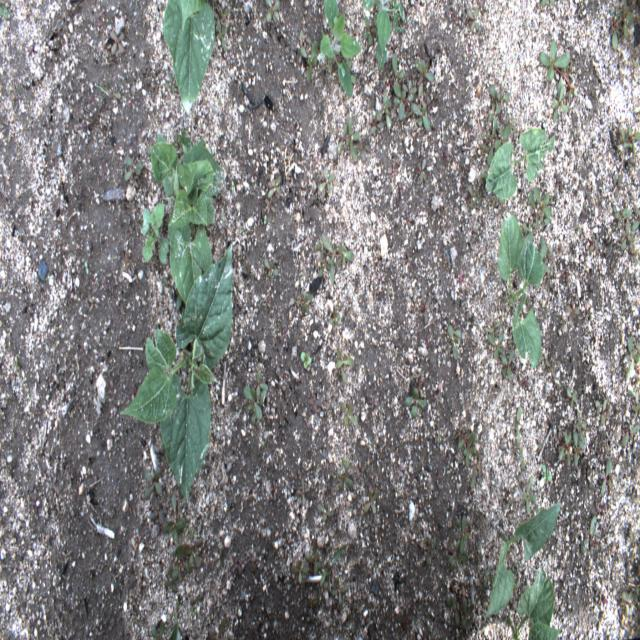crop: (120, 244, 233, 502), (149, 127, 224, 304), (486, 502, 561, 615), (497, 215, 544, 370), (161, 0, 215, 104), (485, 125, 555, 203), (509, 568, 562, 639), (168, 623, 182, 639)
weed: (319, 0, 362, 99), (362, 0, 404, 72), (539, 40, 577, 98), (315, 235, 354, 285), (140, 202, 169, 264), (522, 186, 553, 244), (242, 370, 269, 425), (320, 544, 346, 591), (609, 1, 633, 51), (163, 492, 185, 542), (480, 117, 510, 153), (393, 78, 417, 120), (172, 519, 200, 552), (338, 117, 360, 158), (382, 52, 404, 93), (457, 426, 477, 468), (581, 515, 601, 555), (415, 60, 436, 96), (142, 466, 162, 502), (300, 43, 318, 82), (404, 386, 424, 421), (288, 286, 313, 314), (336, 347, 354, 384), (447, 318, 462, 361), (410, 102, 431, 131), (184, 538, 204, 568), (618, 128, 640, 155), (552, 86, 568, 122), (304, 542, 322, 574), (95, 70, 110, 108), (522, 476, 537, 514), (540, 236, 554, 275), (627, 336, 640, 377), (612, 204, 631, 232), (149, 495, 168, 523), (376, 95, 392, 128), (337, 402, 359, 426), (620, 588, 638, 617), (419, 538, 437, 567), (290, 559, 310, 585), (454, 514, 467, 554), (337, 461, 353, 493), (330, 577, 348, 605), (124, 156, 144, 181), (509, 406, 522, 444), (559, 430, 572, 468), (318, 167, 336, 194), (461, 597, 474, 633), (500, 349, 514, 382), (489, 84, 510, 106), (591, 398, 608, 425), (602, 457, 614, 495), (480, 147, 493, 181), (174, 546, 191, 572), (446, 596, 460, 627), (621, 424, 639, 448), (364, 489, 381, 514), (363, 16, 377, 46), (216, 18, 228, 52), (488, 331, 503, 358), (573, 432, 584, 468), (164, 566, 179, 592), (488, 102, 502, 129), (448, 547, 469, 565), (296, 479, 310, 505), (267, 175, 282, 199), (620, 220, 632, 250), (264, 0, 280, 22), (110, 30, 124, 54), (628, 384, 639, 414), (466, 7, 479, 32), (467, 185, 481, 208), (370, 115, 384, 137), (150, 620, 165, 639), (264, 258, 278, 278), (577, 412, 586, 443), (316, 502, 331, 520), (13, 353, 23, 379), (358, 143, 371, 162), (300, 351, 312, 370), (99, 39, 111, 57), (566, 387, 577, 406), (488, 321, 501, 337), (542, 462, 552, 482), (264, 198, 276, 214), (632, 206, 640, 230), (330, 311, 341, 327), (614, 174, 622, 196), (508, 115, 518, 132), (567, 302, 580, 314), (631, 245, 638, 266), (164, 278, 173, 294), (0, 5, 10, 19), (220, 8, 230, 22), (628, 51, 636, 68), (520, 445, 525, 471), (129, 174, 138, 188), (110, 90, 122, 100), (83, 259, 90, 276), (421, 158, 426, 181), (176, 290, 182, 309), (541, 0, 555, 7), (574, 222, 582, 234), (437, 420, 441, 443), (262, 213, 268, 227), (230, 180, 234, 193)
